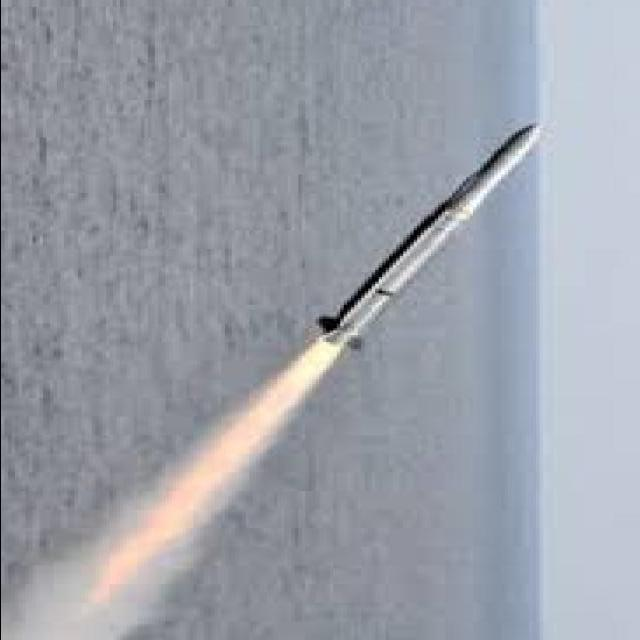Missile: (306, 106, 547, 352)
